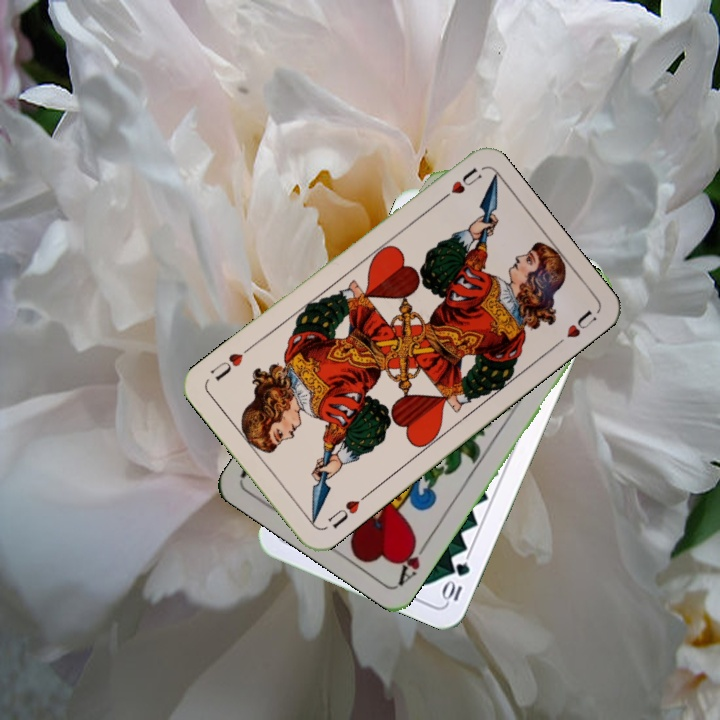G10: (439, 557, 473, 605)
HA: (394, 533, 432, 588)
HU: (433, 163, 485, 206), (323, 489, 371, 532)
